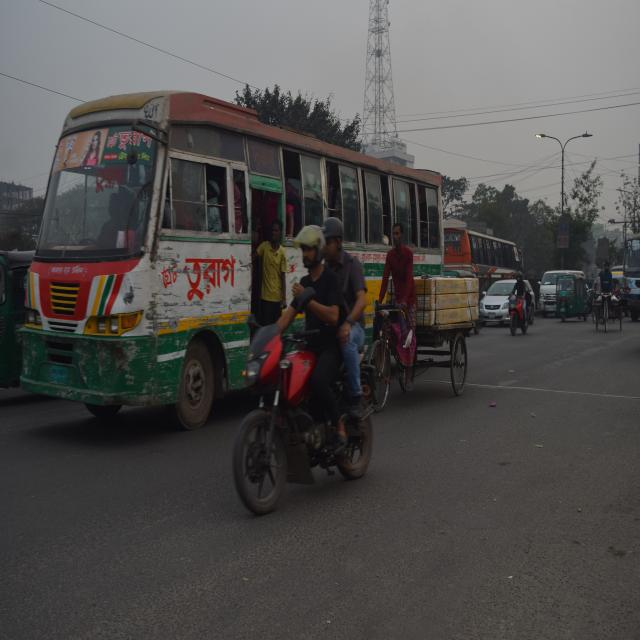bus: (18, 73, 445, 399), (620, 231, 640, 311)
microbus: (481, 273, 532, 316), (538, 268, 559, 310)
motorbike: (228, 324, 372, 508), (506, 292, 530, 339)
